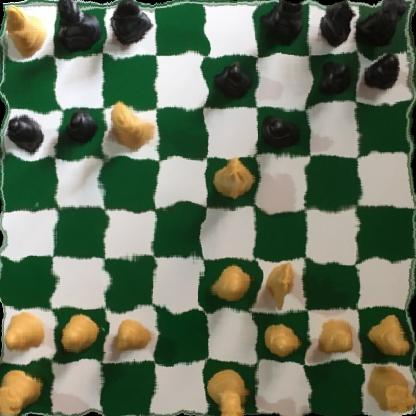black-bishop: (111, 0, 154, 47), (261, 0, 303, 47)
black-king: (52, 0, 102, 51)
black-knight: (316, 0, 355, 51)
black-pawn: (358, 49, 403, 90), (212, 59, 253, 101), (5, 113, 48, 151), (260, 113, 299, 151), (314, 60, 351, 100), (59, 109, 95, 142)
black-rook: (355, 0, 408, 47)
white-bishop: (2, 3, 51, 52)
white-king: (201, 366, 251, 416)
white-knight: (261, 259, 300, 311), (211, 154, 250, 202)
white-pawn: (3, 305, 48, 353), (362, 314, 408, 360), (110, 313, 153, 360), (310, 316, 354, 361), (210, 265, 252, 307), (59, 311, 100, 354), (261, 316, 302, 359)
white-queen: (105, 104, 154, 152)
white-rook: (362, 363, 414, 411), (0, 364, 46, 415)
